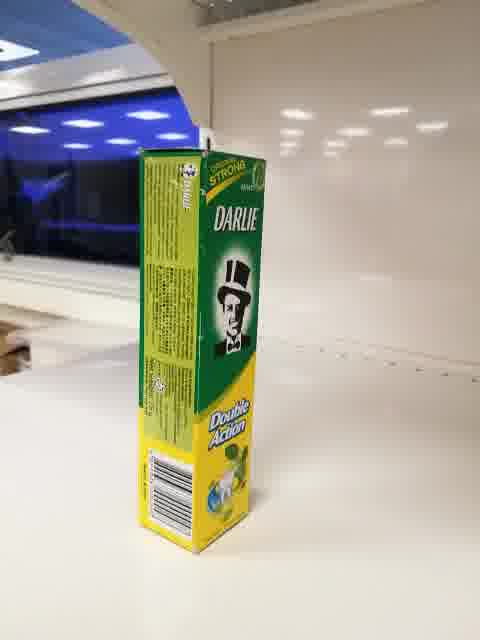toothpaste: (137, 147, 265, 554)
